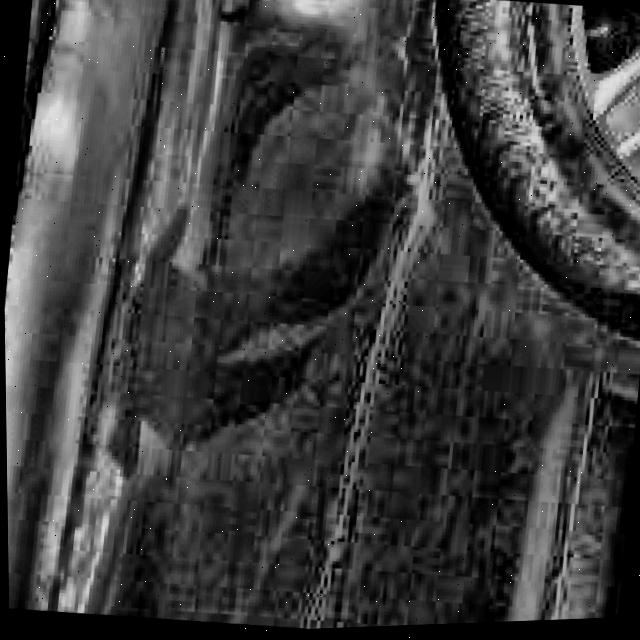door_scratch: (315, 127, 434, 628)
